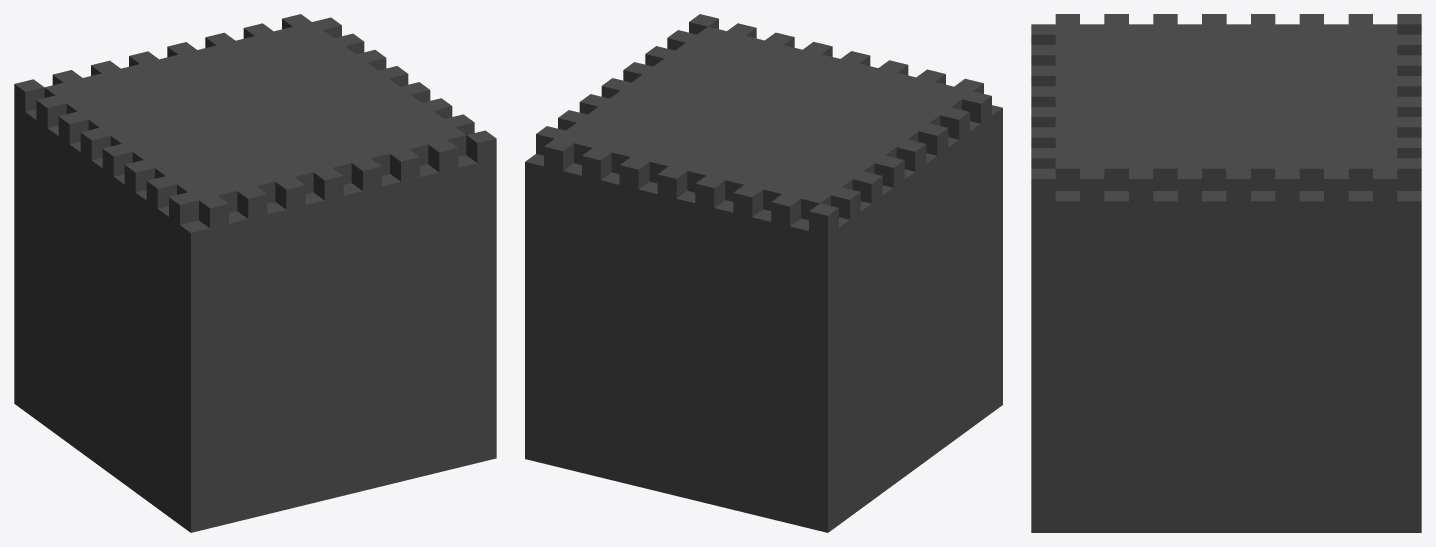
File: Moyou4.obj
The picture shows the model from 3 angles, left to right: view 1: azimuth 30°, elevation 25°; view 2: azimuth 150°, elevation 25°; view 3: azimuth 270°, elevation 25°; orthographic projection. The views are drawn at different scales.
Parts seen in each view (by area): view 1: Moyou4; view 2: Moyou4; view 3: Moyou4.
Boxes of the visible parts, <box> form: Moyou4: <box>14,14,496,532</box>; Moyou4: <box>525,14,1002,532</box>; Moyou4: <box>1031,14,1421,532</box>.
Size of the model in its own units: 16 by 16 by 16.
1 material, 1 textured.
